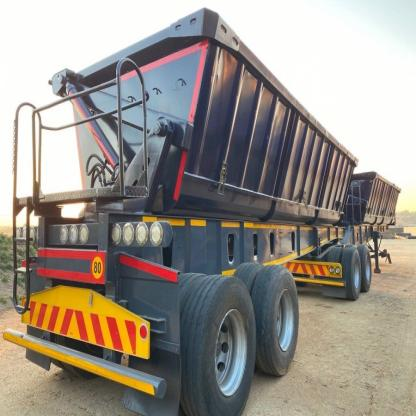dump_truck: (12, 4, 395, 416)
